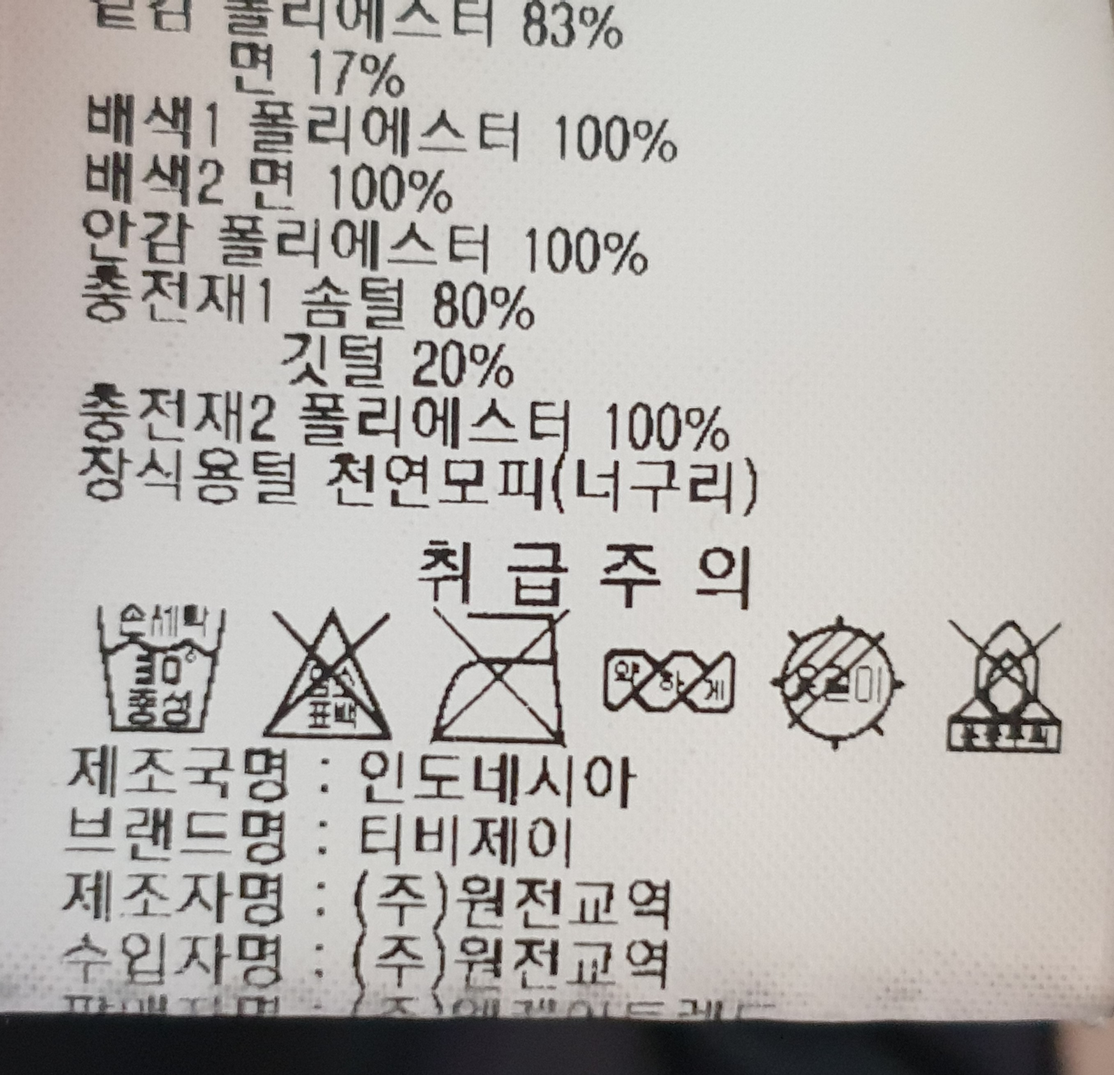KR_gentle_wring: (597, 633, 749, 729)
KR_hand_wash_30_neutral: (81, 591, 234, 735)
KR_hang_dry_in_shade: (769, 604, 905, 748)
KR_no_bleach: (252, 599, 401, 751)
KR_no_iron: (419, 602, 572, 753)
